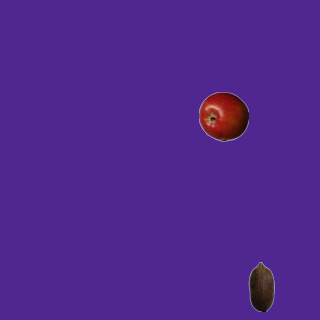Apple Braeburn: (198, 91, 248, 141)
Nut Pecan: (236, 261, 286, 311)
